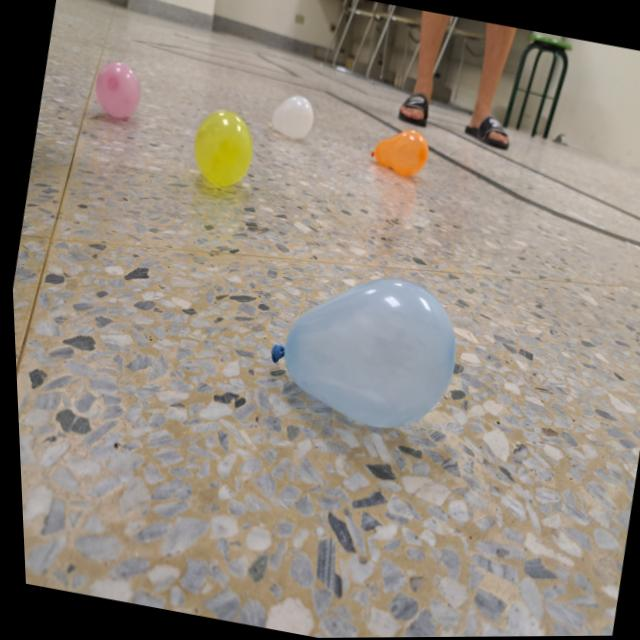other: (252, 255, 469, 442), (183, 105, 259, 195), (86, 57, 148, 125), (363, 124, 432, 182), (263, 91, 318, 146)
